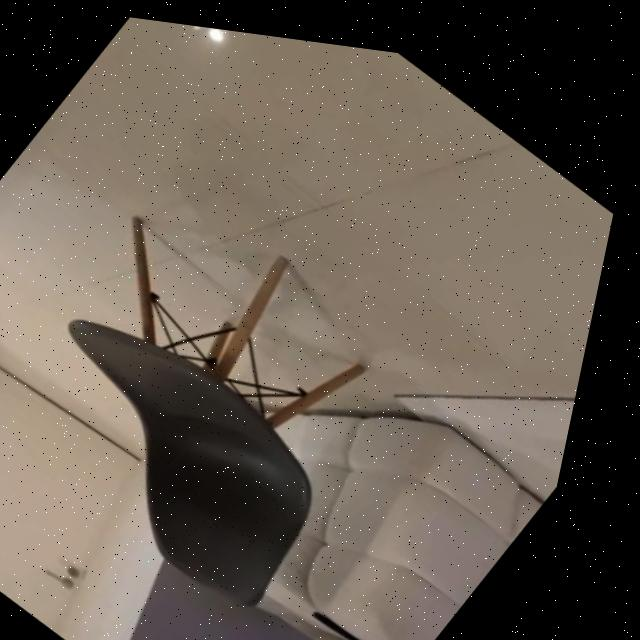sandalye: (80, 211, 377, 593)
